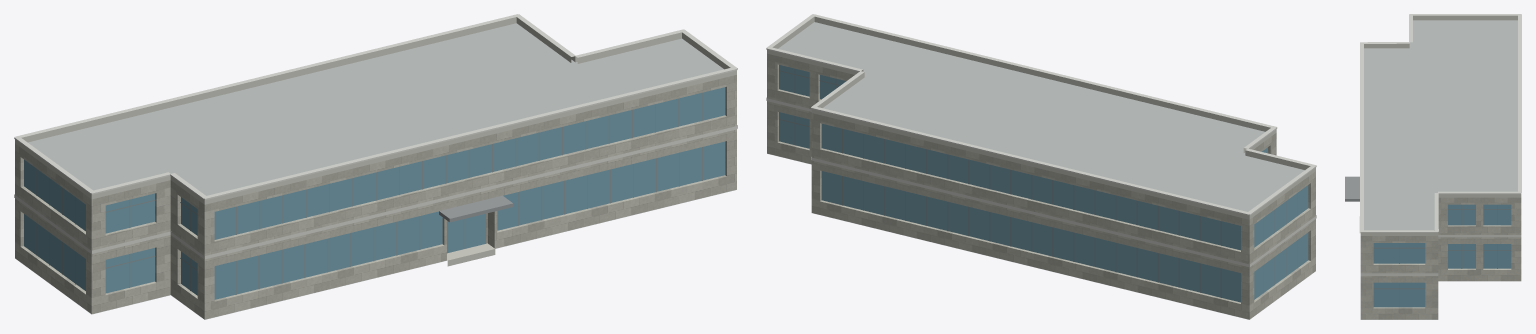
3 renders of one model, left to right at view 1: azimuth 30°, elevation 25°; view 2: azimuth 150°, elevation 25°; view 3: azimuth 270°, elevation 25°, orthographic. The views are drawn at different scales.
Parts seen in each view (by area): view 1: unist-batch-b206__parapet, b206__wall, b206__glass, b206__trim, b206__frame, b206__canopy, b206__entranceThreshold_0; view 2: unist-batch-b206__parapet, b206__wall, b206__glass, b206__trim, b206__frame; view 3: unist-batch-b206__parapet, b206__wall, b206__glass, b206__trim, b206__frame, b206__canopy.
Part boxes in pixels (left/top/right/bottom): unist-batch-b206__parapet: left=15, top=17, right=736, bottom=319; b206__wall: left=15, top=75, right=736, bottom=319; b206__glass: left=24, top=87, right=725, bottom=299; b206__trim: left=14, top=14, right=737, bottom=259; b206__frame: left=36, top=92, right=702, bottom=294; b206__canopy: left=439, top=195, right=513, bottom=222; b206__entranceThreshold_0: left=447, top=243, right=495, bottom=266; unist-batch-b206__parapet: left=767, top=16, right=1315, bottom=319; b206__wall: left=767, top=53, right=1315, bottom=319; b206__glass: left=779, top=65, right=1308, bottom=302; b206__trim: left=766, top=14, right=1316, bottom=266; b206__frame: left=779, top=69, right=1297, bottom=297; unist-batch-b206__parapet: left=1360, top=15, right=1521, bottom=319; b206__wall: left=1360, top=197, right=1521, bottom=319; b206__glass: left=1373, top=204, right=1511, bottom=307; b206__trim: left=1360, top=14, right=1521, bottom=275; b206__frame: left=1373, top=204, right=1511, bottom=307; b206__canopy: left=1345, top=176, right=1359, bottom=201.
Bounding box in the file's own units: 46.37 × 9.15 × 15.9.
Materials: 7 (1 with a texture image).
